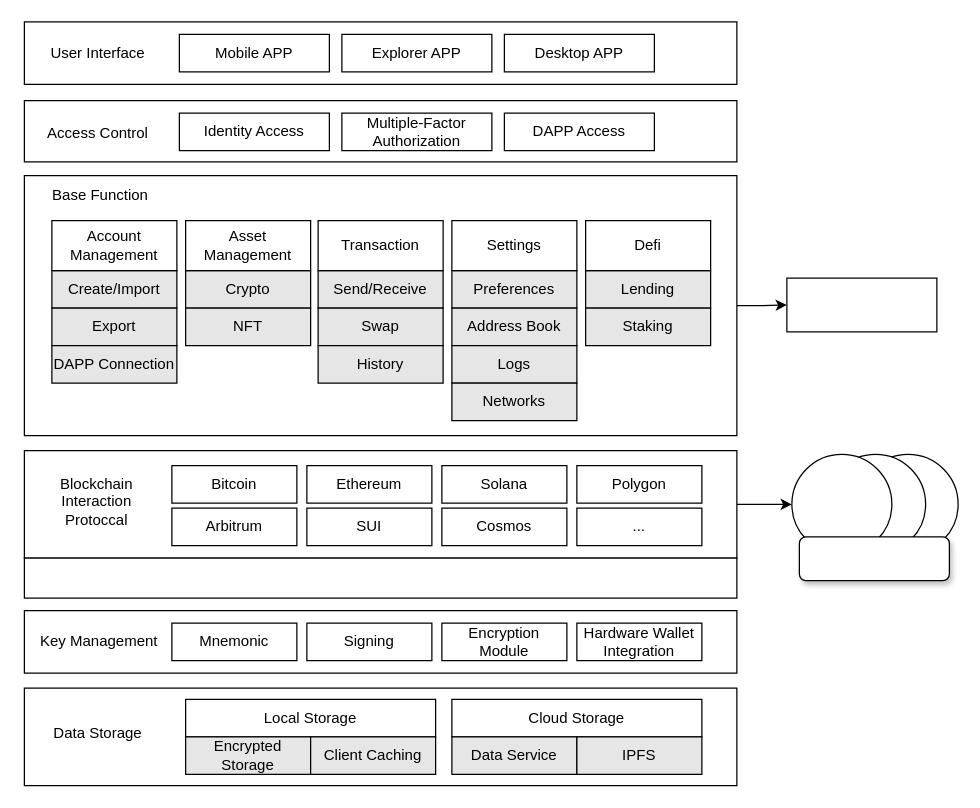
Image size: 980x808. Some labels were removed from this diagram. Each missing label, with the centre of its shape:
"Blockchain Networks" goes at (841,503).
"Cross-Chain Bridges" goes at (875,560).
"Cross-chain Protocol" goes at (380,577).
"Price and Market Data APIs" goes at (861,304).
